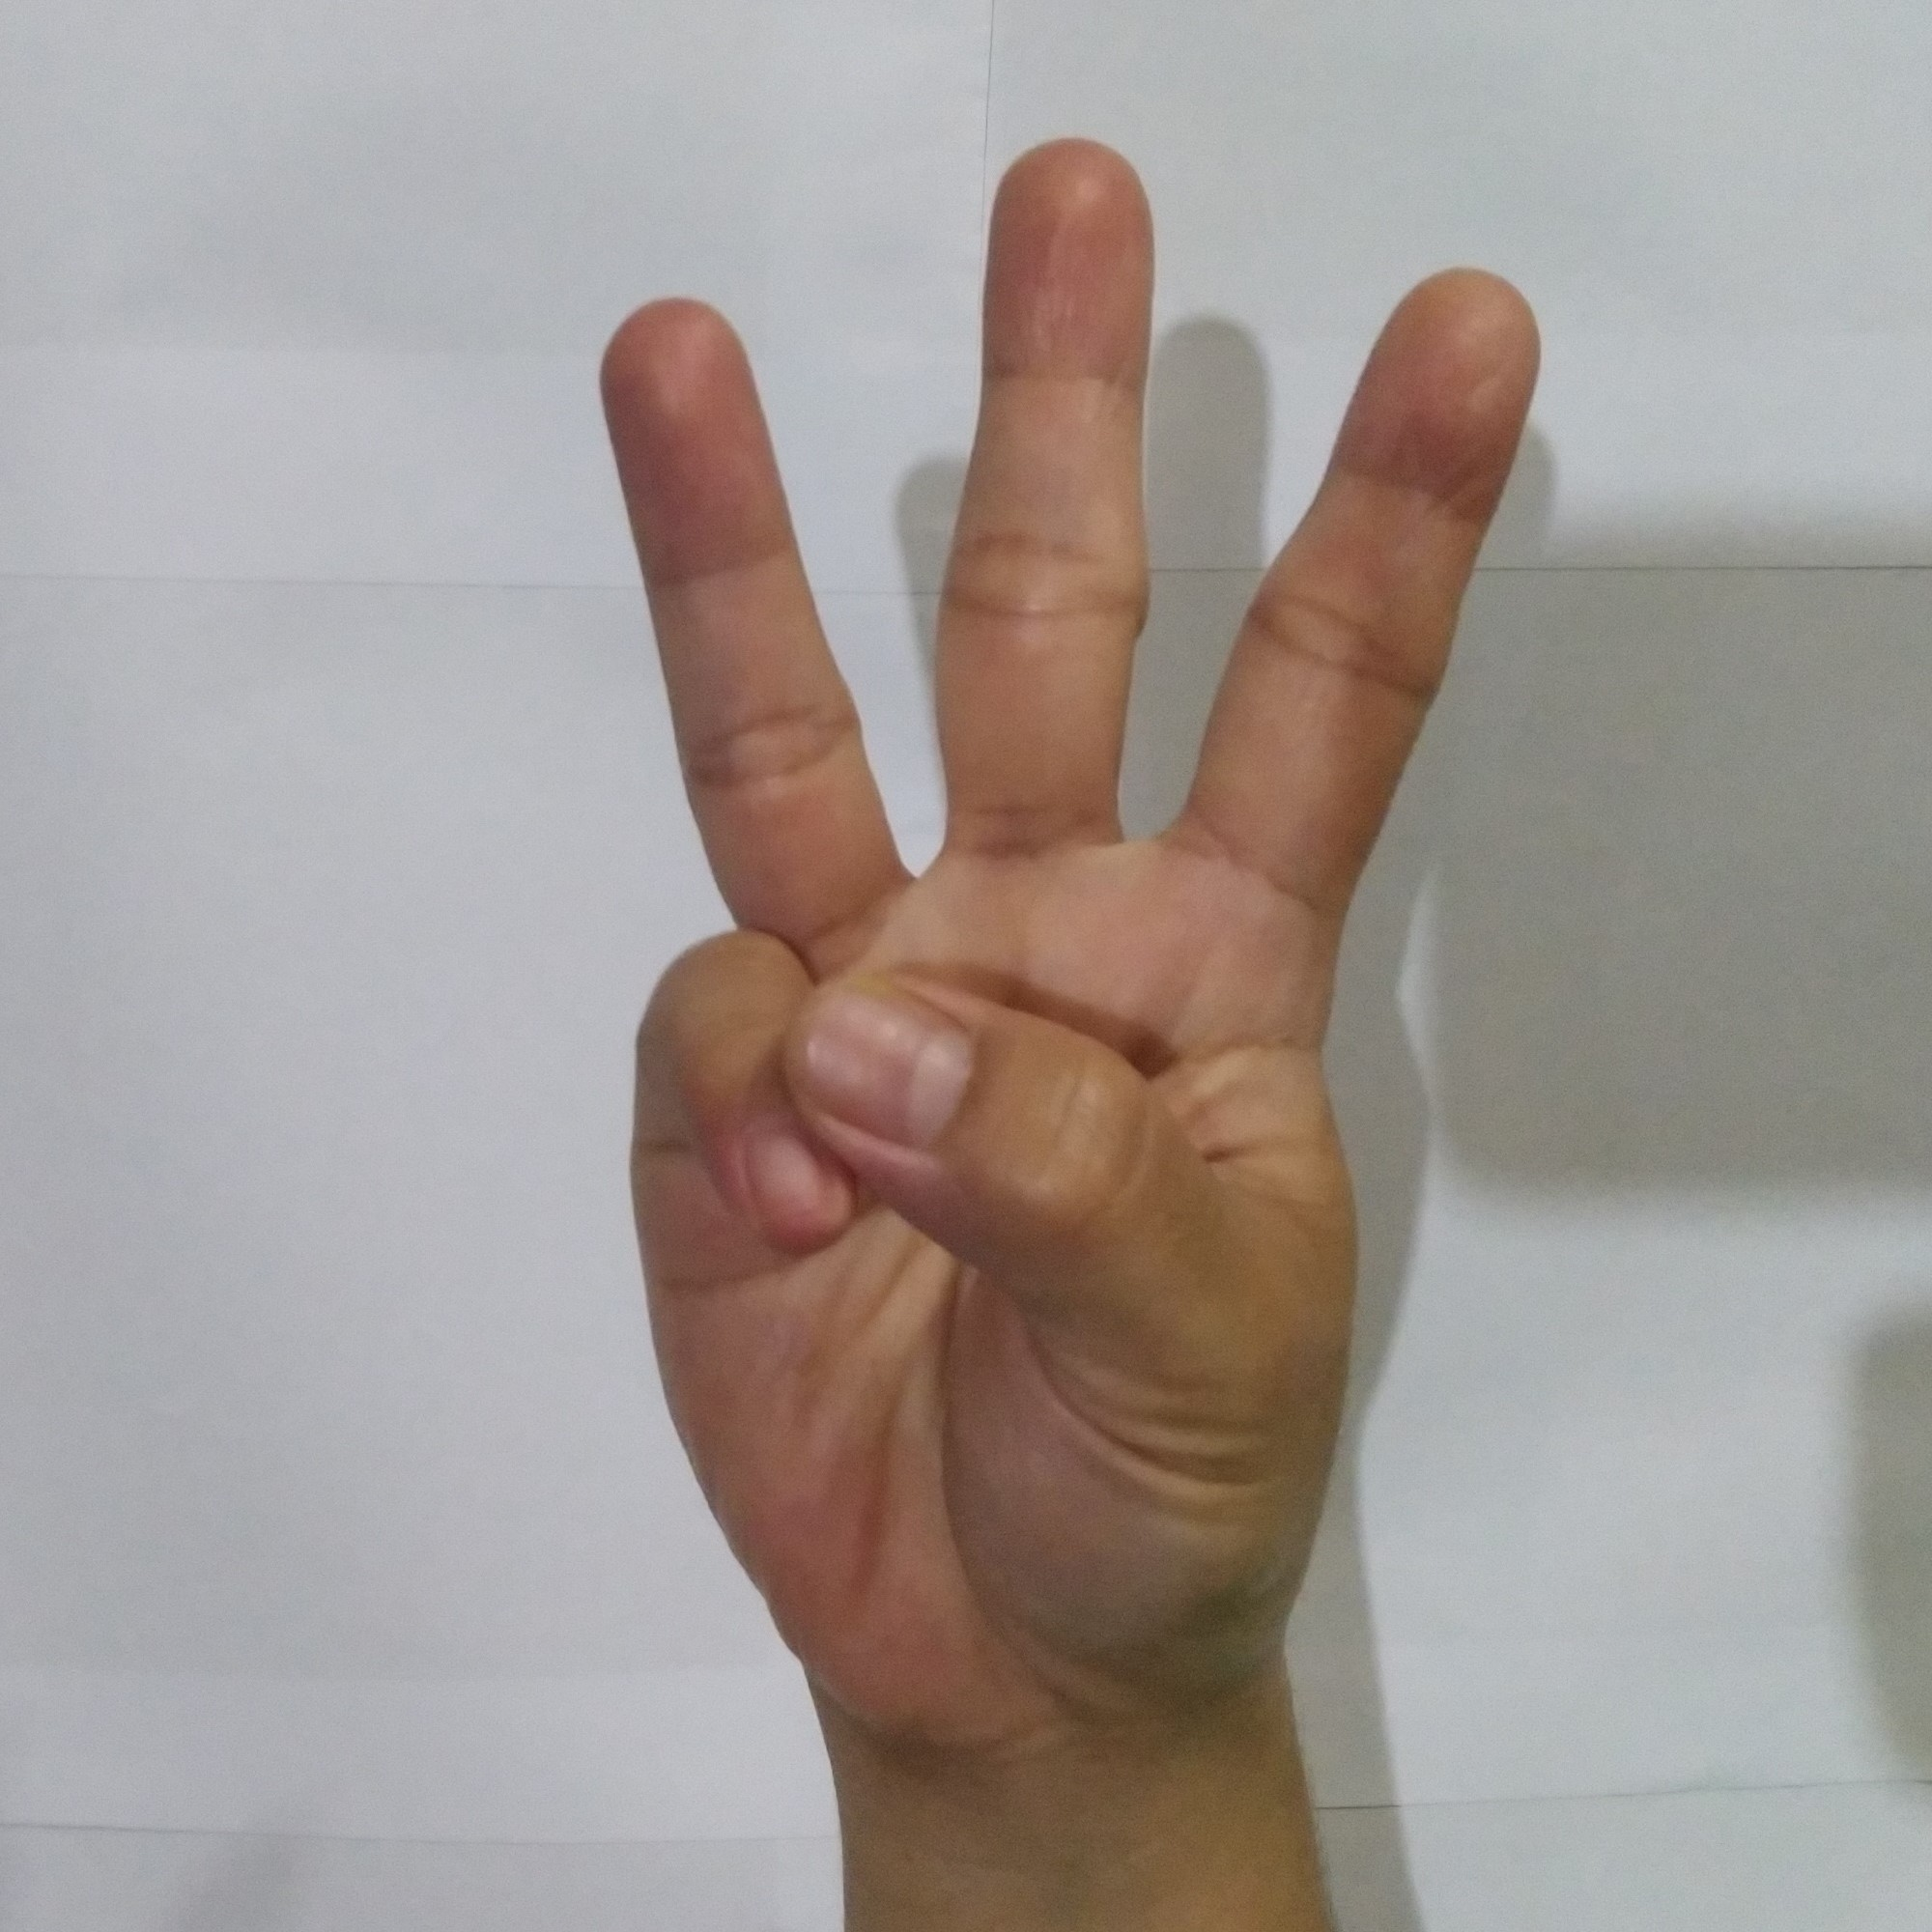W: (568, 113, 1571, 1706)
